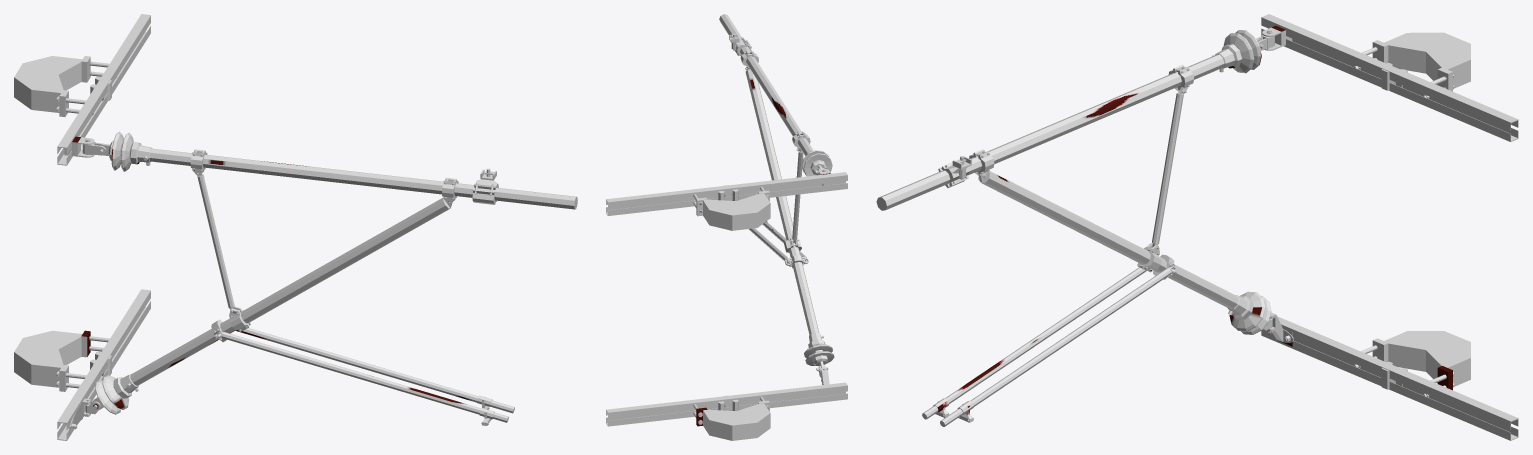
File: Bracket5aL45.obj
The picture shows the model from 3 angles, left to right: view 1: azimuth 30°, elevation 25°; view 2: azimuth 150°, elevation 25°; view 3: azimuth 270°, elevation 25°; orthographic projection. The views are drawn at different scales.
Visible parts, largest first — view 1: obj2, obj1, obj4, obj7, obj8, obj3; view 2: obj2, obj4, obj1, obj7, obj3, obj8; view 3: obj2, obj1, obj4, obj7, obj3, obj8.
Boxes of the visible parts, left/top/right/bottom form: obj2: left=64, top=131, right=577, bottom=434; obj1: left=14, top=56, right=109, bottom=381; obj4: left=57, top=14, right=150, bottom=165; obj7: left=57, top=289, right=150, bottom=430; obj8: left=14, top=68, right=116, bottom=391; obj3: left=57, top=301, right=150, bottom=440; obj2: left=719, top=14, right=836, bottom=394; obj4: left=606, top=172, right=847, bottom=215; obj1: left=693, top=186, right=770, bottom=433; obj7: left=606, top=382, right=847, bottom=418; obj3: left=606, top=391, right=847, bottom=426; obj8: left=692, top=200, right=770, bottom=440; obj2: left=876, top=25, right=1293, bottom=426; obj1: left=1361, top=32, right=1470, bottom=386; obj4: left=1261, top=14, right=1518, bottom=141; obj7: left=1277, top=316, right=1518, bottom=429; obj3: left=1261, top=329, right=1518, bottom=440; obj8: left=1353, top=54, right=1470, bottom=397.
Size of the model in its own units: 1.45 by 1.23 by 2.16.
Materials: 1 (1 with a texture image).
